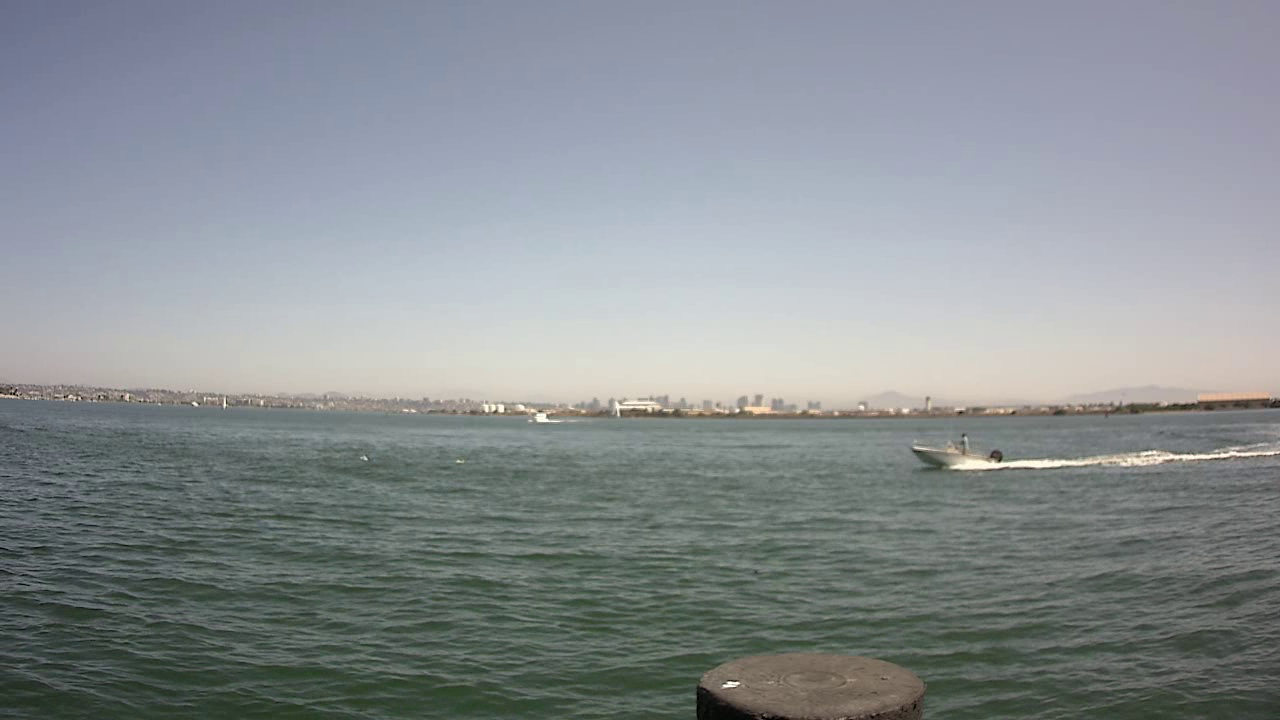target: (908, 422, 1012, 476)
